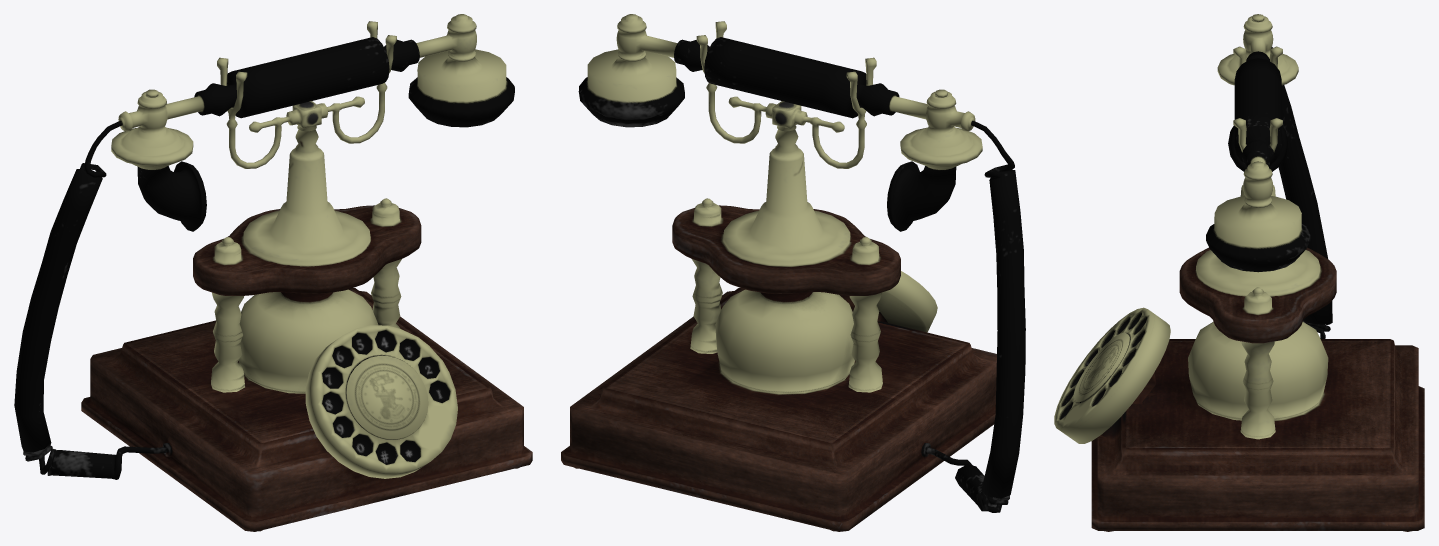
Rendered from phone.obj.
3 renders of one model, left to right at view 1: azimuth 30°, elevation 25°; view 2: azimuth 150°, elevation 25°; view 3: azimuth 270°, elevation 25°, orthographic. The views are drawn at different scales.
Visible parts, largest first — view 1: LowPoly; view 2: LowPoly; view 3: LowPoly.
Part boxes in pixels (x1,y1,x2,y2): LowPoly: [14, 14, 532, 531]; LowPoly: [561, 14, 1025, 531]; LowPoly: [1054, 14, 1424, 531].
Size of the model in its own units: 2.94 by 2.38 by 2.09.
1 material, 1 textured.
